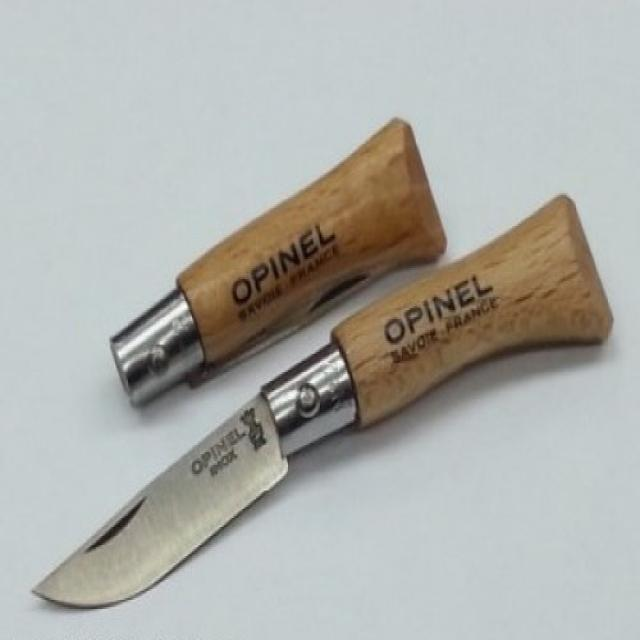knife: (29, 183, 615, 619)
